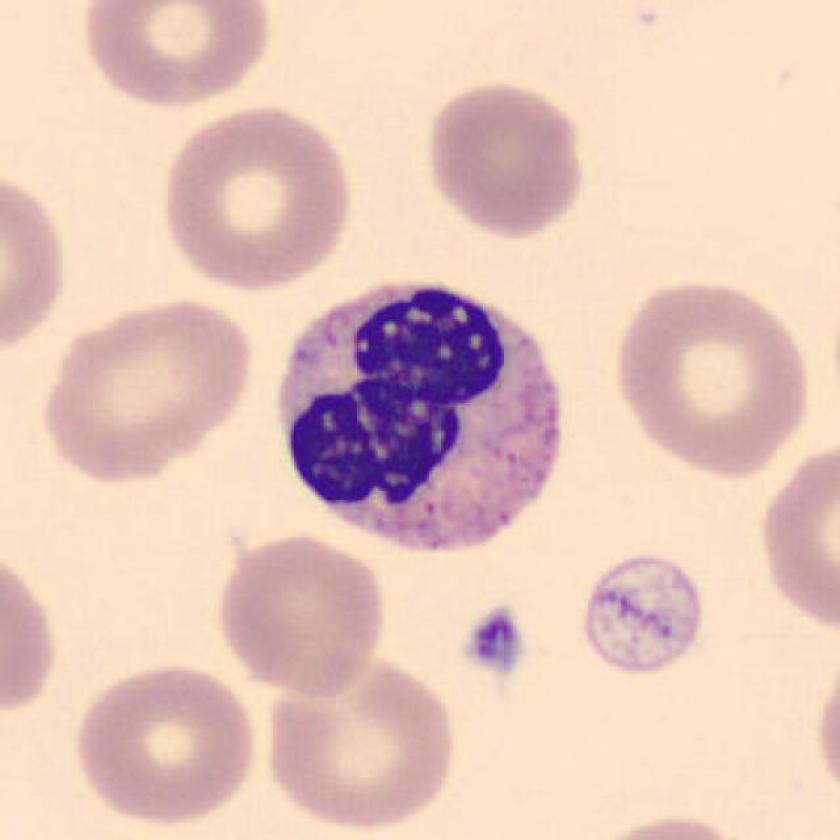neutrophil: (278, 282, 560, 551)
